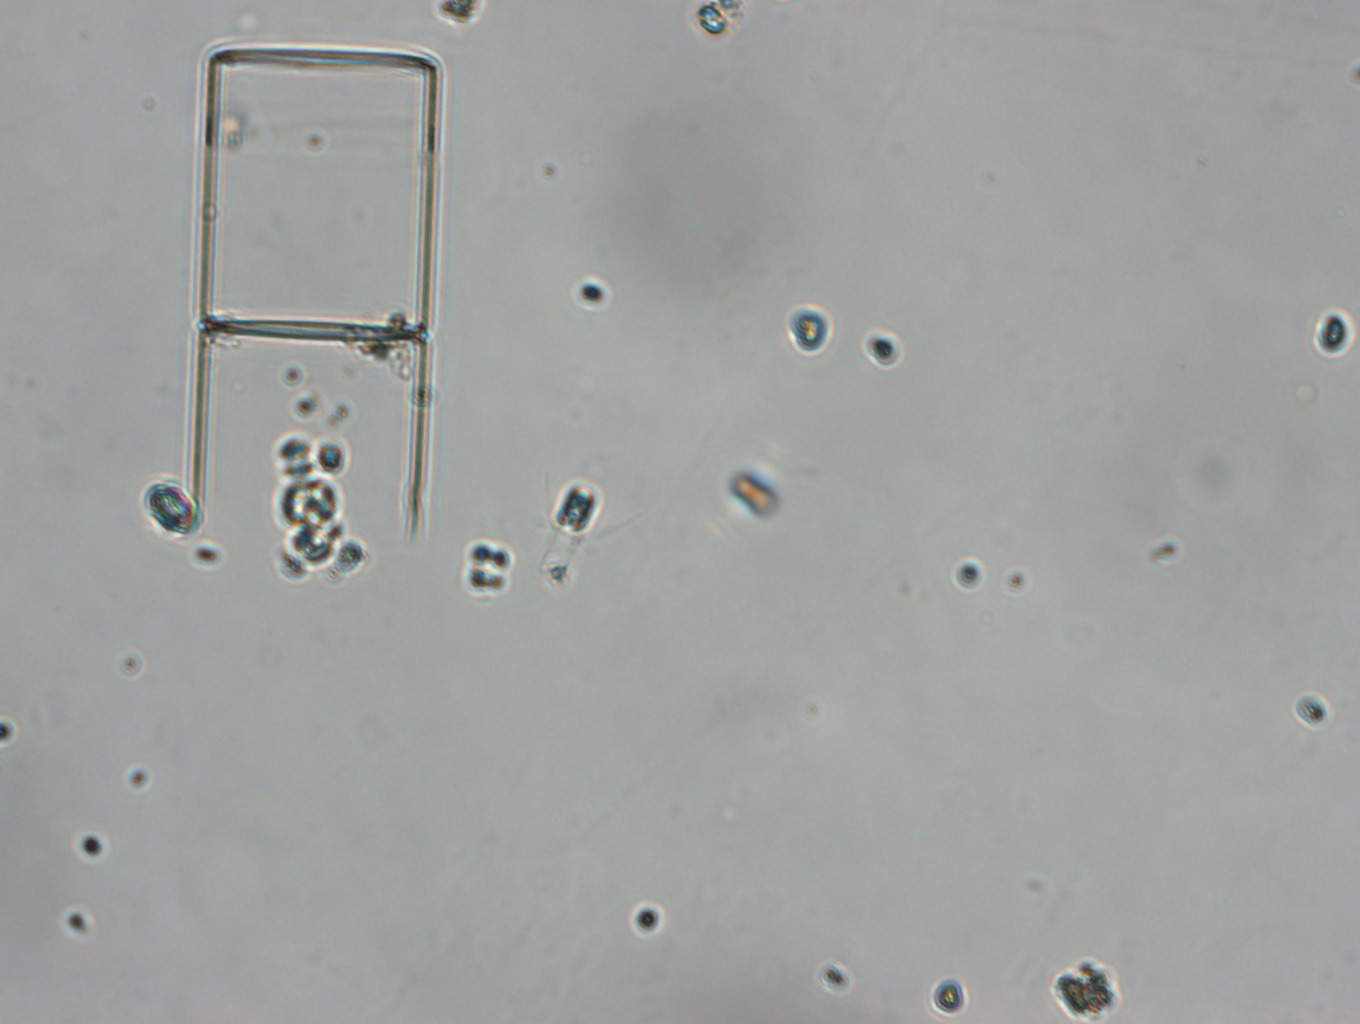guinardia flaccida: (194, 40, 454, 534)
